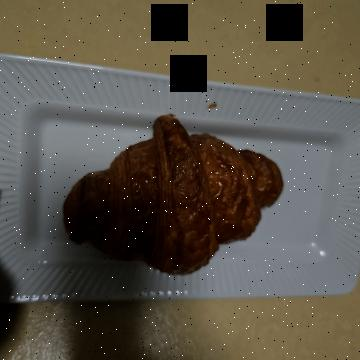croissant: (97, 66, 288, 308)
